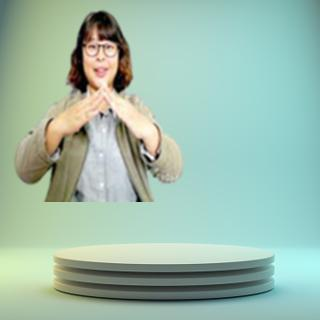HOME: (60, 78, 148, 139)
